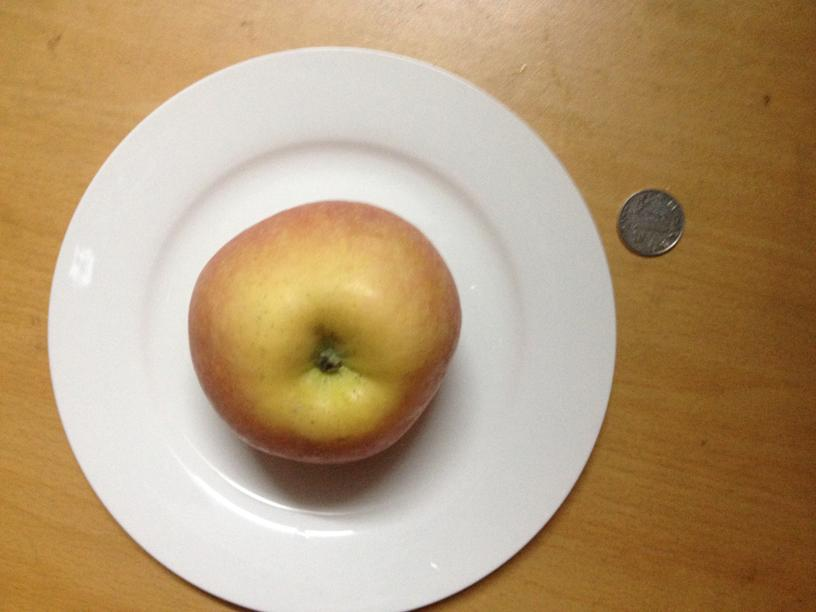apple: (192, 197, 458, 466)
coin: (615, 187, 685, 255)
